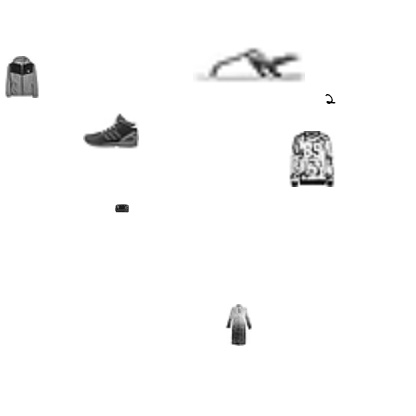2: (323, 93, 337, 107)
Bag: (115, 201, 129, 215)
Coat: (217, 304, 259, 346), (1, 56, 43, 98)
Pullover: (284, 131, 340, 187)
Sandal: (193, 9, 305, 121)
Sneaker: (83, 102, 139, 158)
